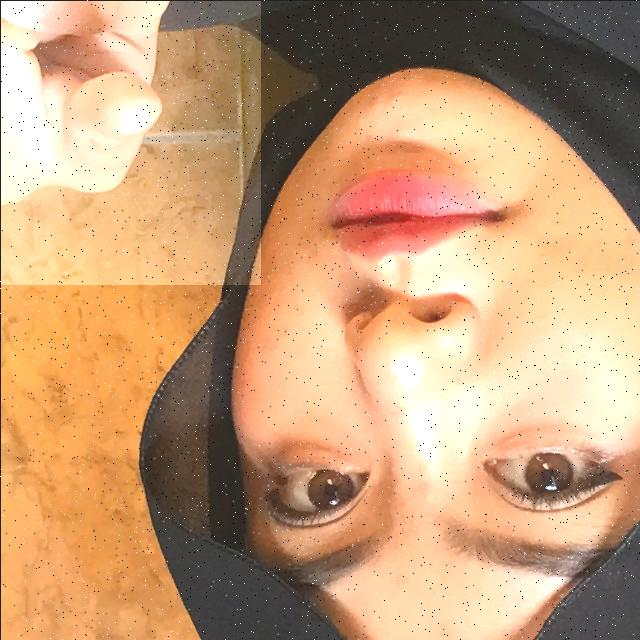kamu: (0, 0, 260, 284)
